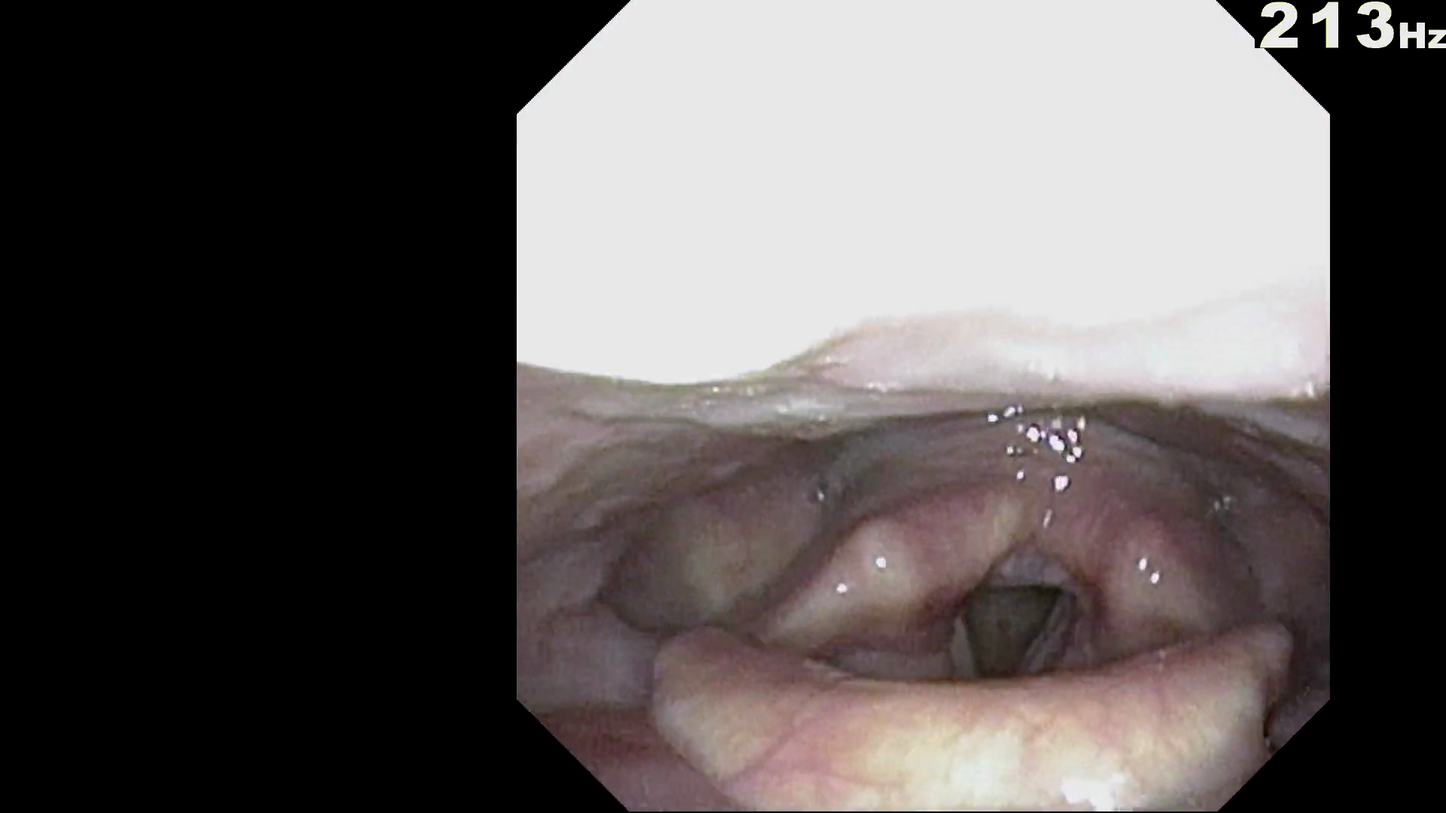epiglottis: (690, 658, 1231, 798)
trachea: (936, 570, 1065, 690)
